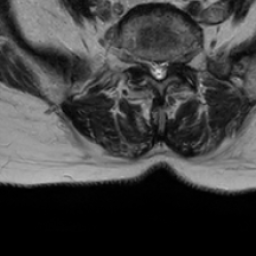CCS_severe_stenosis: (155, 55, 162, 87)
LFS_stenosis: (171, 46, 180, 73)
LLS_normal: (162, 53, 171, 81)
RFS_stenosis: (139, 50, 147, 74)
RLS_normal: (147, 53, 155, 81)
